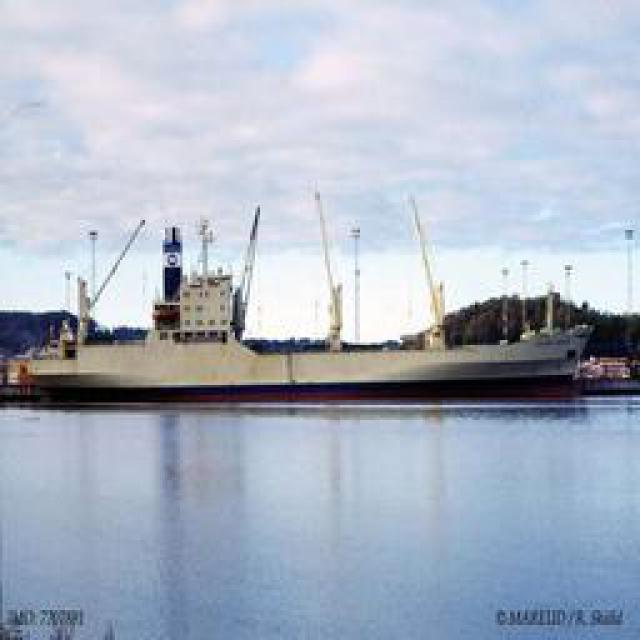Ship: (21, 190, 599, 393)
